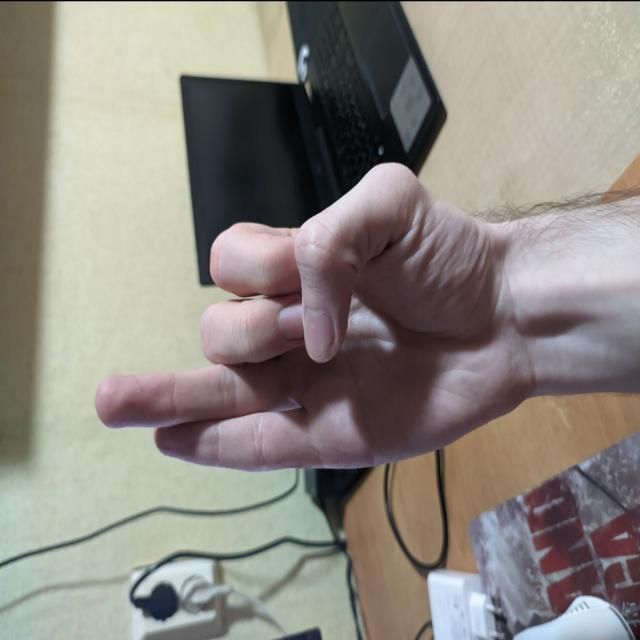i: (76, 139, 502, 496)
